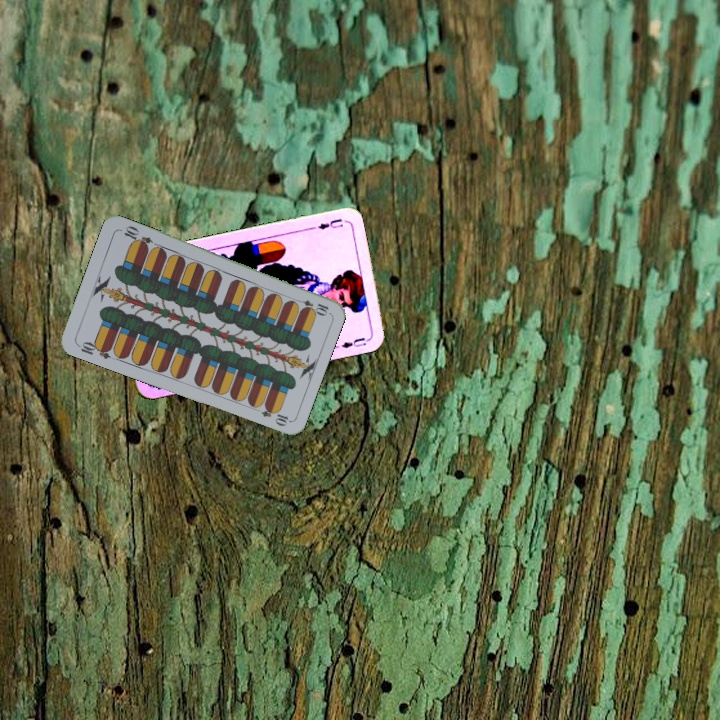E10: (73, 337, 114, 361), (291, 295, 331, 317)
EU: (314, 214, 346, 232)
